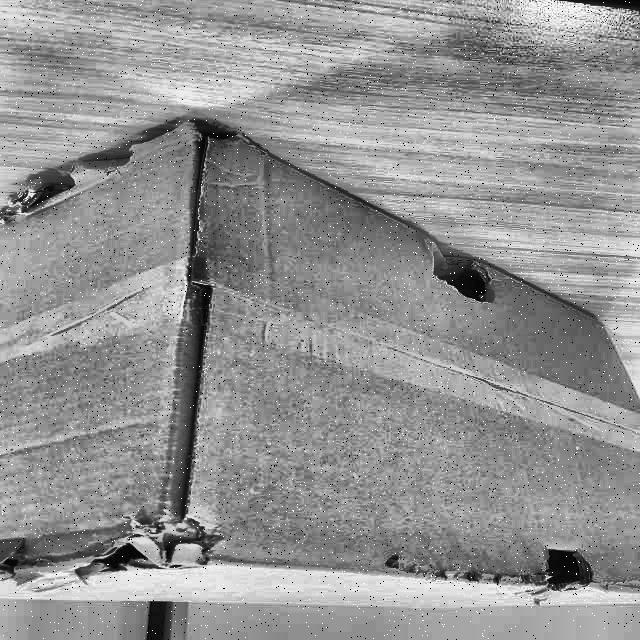box: (1, 104, 640, 624)
hole: (0, 535, 193, 584), (409, 241, 512, 308), (500, 550, 608, 596), (14, 170, 111, 211)
